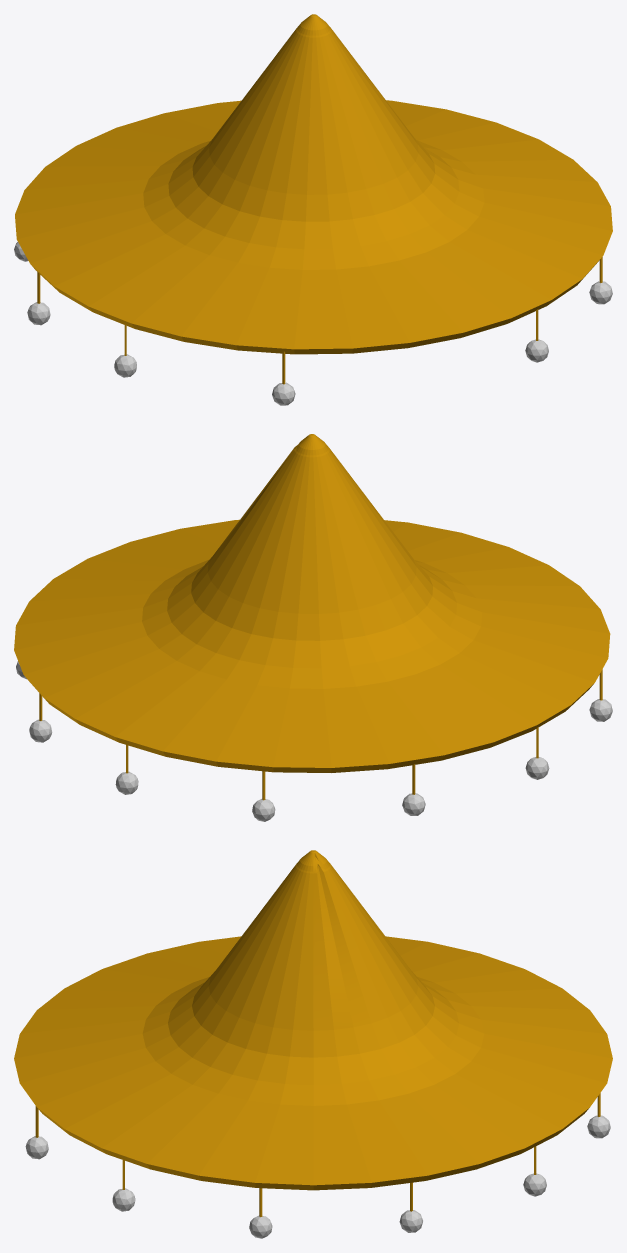
Rendered from sombrero.obj.
The picture shows the model from 3 angles, top to bottom: view 1: azimuth 30°, elevation 25°; view 2: azimuth 150°, elevation 25°; view 3: azimuth 270°, elevation 25°; orthographic projection.
Visible parts, largest first — view 1: mexican_hat_0, Material_001_1; view 2: mexican_hat_0, Material_001_1; view 3: mexican_hat_0, Material_001_1.
Part boxes in pixels (x1=…): mexican_hat_0: x1=15, y1=14, x2=612, y2=384; Material_001_1: x1=14, y1=242, x2=612, y2=405; mexican_hat_0: x1=14, y1=434, x2=610, y2=800; Material_001_1: x1=16, y1=661, x2=612, y2=821; mexican_hat_0: x1=14, y1=850, x2=612, y2=1217; Material_001_1: x1=25, y1=1115, x2=610, y2=1238.
Bounding box in the file's own units: 1 × 0.4887 × 0.9978.
